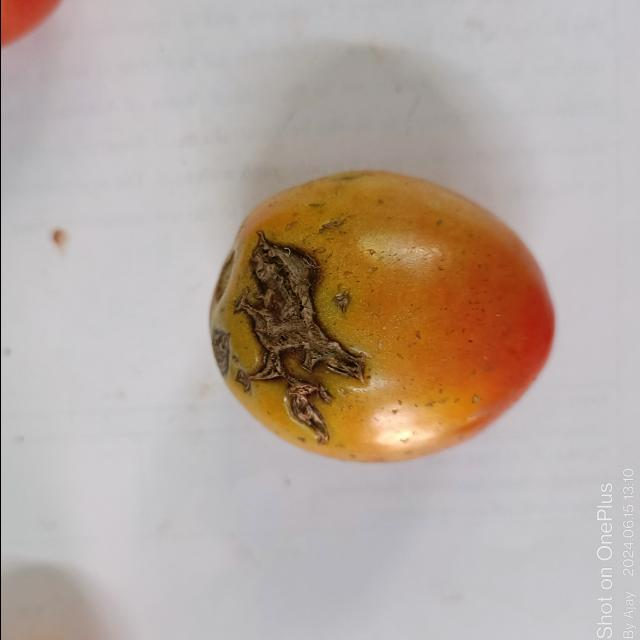Bacterial_Spot: (236, 236, 370, 444)
